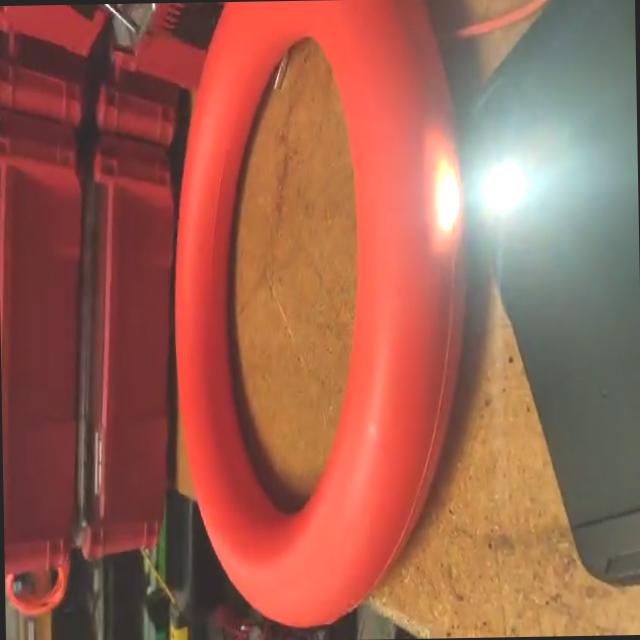note: (151, 0, 498, 640)
